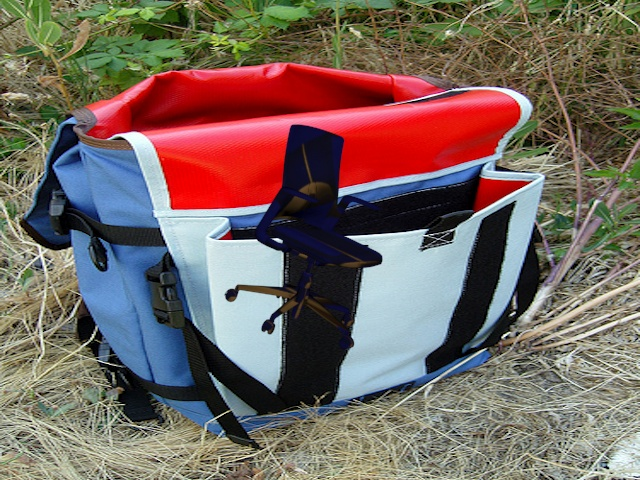desk_chair: (224, 113, 385, 353)
